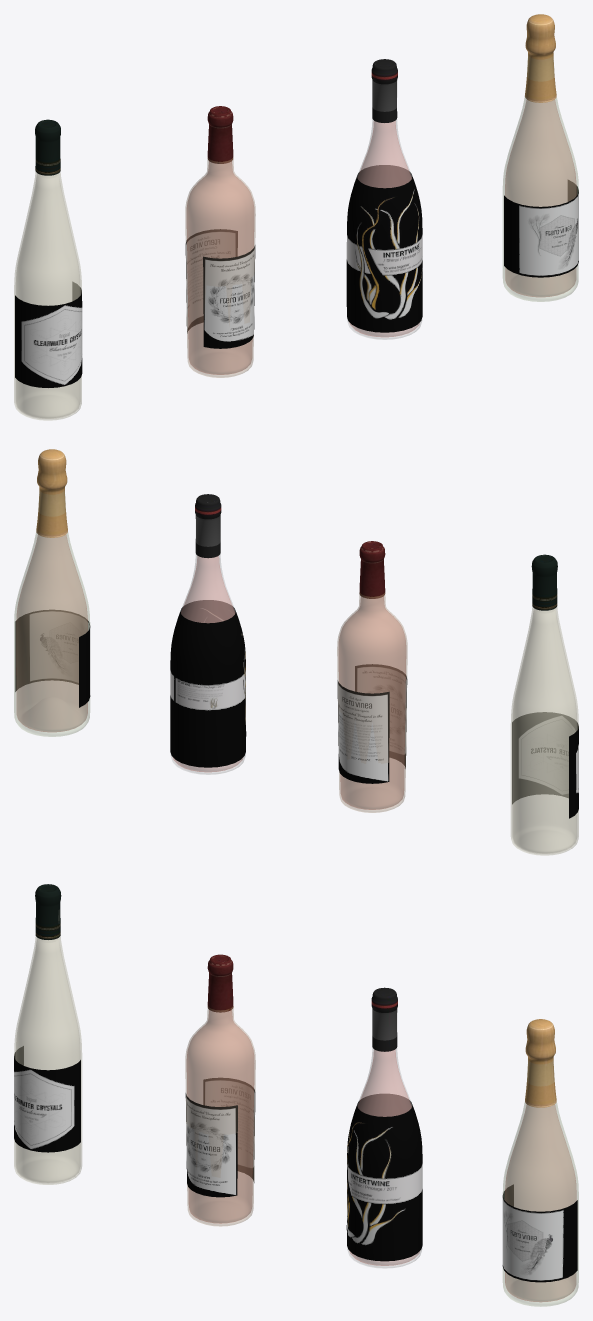
File: prop_wine.glb
3 renders of one model, top to bottom at view 1: azimuth 30°, elevation 25°; view 2: azimuth 150°, elevation 25°; view 3: azimuth 330°, elevation 25°, orthographic.
Visible parts, largest first — view 1: wine_bottles_01_champagne, wine_bottles_01_alsace, wine_bottles_01_burgundy, wine_bottles_01_bordeaux; view 2: wine_bottles_01_champagne, wine_bottles_01_alsace, wine_bottles_01_burgundy, wine_bottles_01_bordeaux; view 3: wine_bottles_01_champagne, wine_bottles_01_alsace, wine_bottles_01_burgundy, wine_bottles_01_bordeaux.
Part boxes in pixels (box(x1,y1,x2,y2)): wine_bottles_01_champagne: box(503, 14, 578, 301); wine_bottles_01_alsace: box(14, 119, 82, 420); wine_bottles_01_burgundy: box(346, 59, 422, 339); wine_bottles_01_bordeaux: box(185, 106, 255, 377); wine_bottles_01_champagne: box(14, 449, 90, 736); wine_bottles_01_alsace: box(511, 554, 578, 855); wine_bottles_01_burgundy: box(170, 494, 246, 774); wine_bottles_01_bordeaux: box(337, 541, 407, 812); wine_bottles_01_champagne: box(502, 1019, 578, 1306); wine_bottles_01_alsace: box(14, 884, 81, 1184); wine_bottles_01_burgundy: box(346, 987, 422, 1268); wine_bottles_01_bordeaux: box(185, 954, 255, 1226).
Size of the model in its own units: 0.6763 by 0.3314 by 0.0805.
12 materials, 9 textured.
